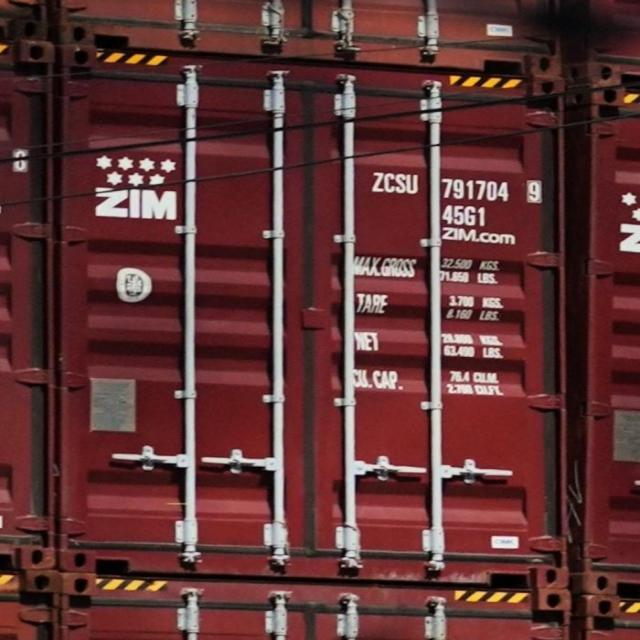ISO: (442, 205, 490, 227)
container_number: (371, 170, 558, 204)
